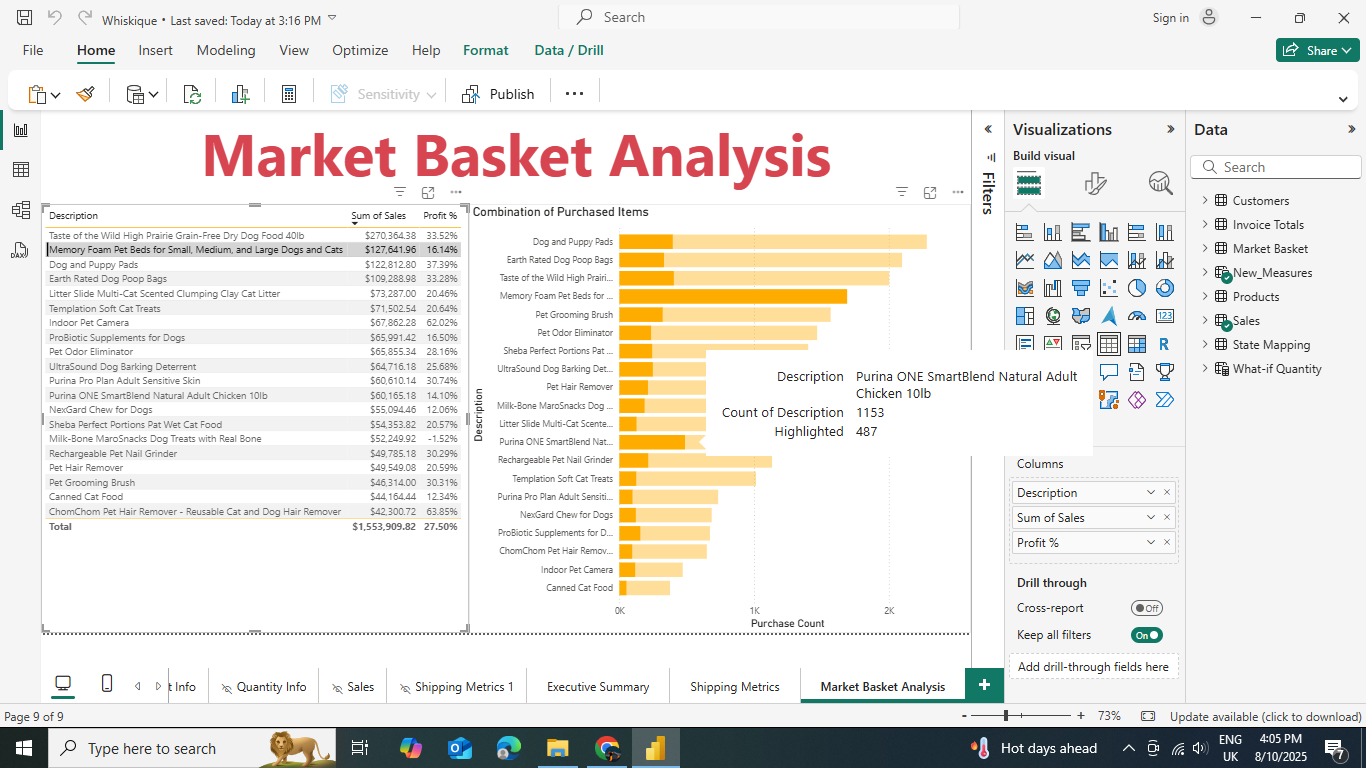

This screenshot's page, from the dashboard's own definition file:
{"tool":"powerbi","page":{"name":"Market Basket Analysis","canvas":[1280,720],"ordinal":8},"visuals":[{"type":"tableEx","fields":{"Values":["Sales.Description","Sum(Sales.Sales)","New_Measures.Profit %"]},"box":[0,129.3,589.2,590.7],"z":0},{"type":"clusteredBarChart","title":"Combination of Purchased Items","fields":{"Category":["Market Basket.Description"],"Y":["CountNonNull(Market Basket.Description)"]},"box":[589.2,129.3,690.6,590.7],"z":1000},{"type":"textbox","box":[149.9,0,1008,129.3],"z":2000}]}

Visuals, with their boxes on the page's 1280x720 design canvas (x1, y1, x2, y2). These are canvas units, not pixel positions in the 1366x768 screenshot, which may show the page scaled, cropped or inside an application window:
tableEx - Sales.Description x Sum(Sales.Sales): BBox(0, 129, 589, 720)
"Combination of Purchased Items" clusteredBarChart: BBox(589, 129, 1280, 720)
textbox: BBox(150, 0, 1158, 129)
